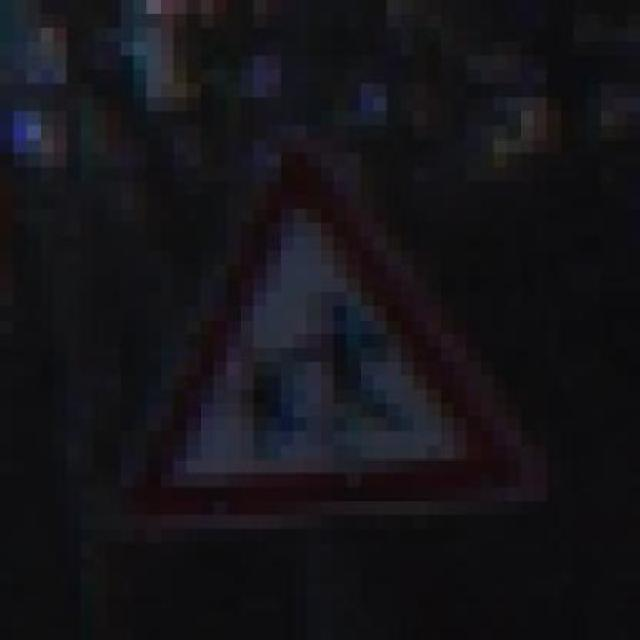Beware of children: (107, 111, 507, 515)
